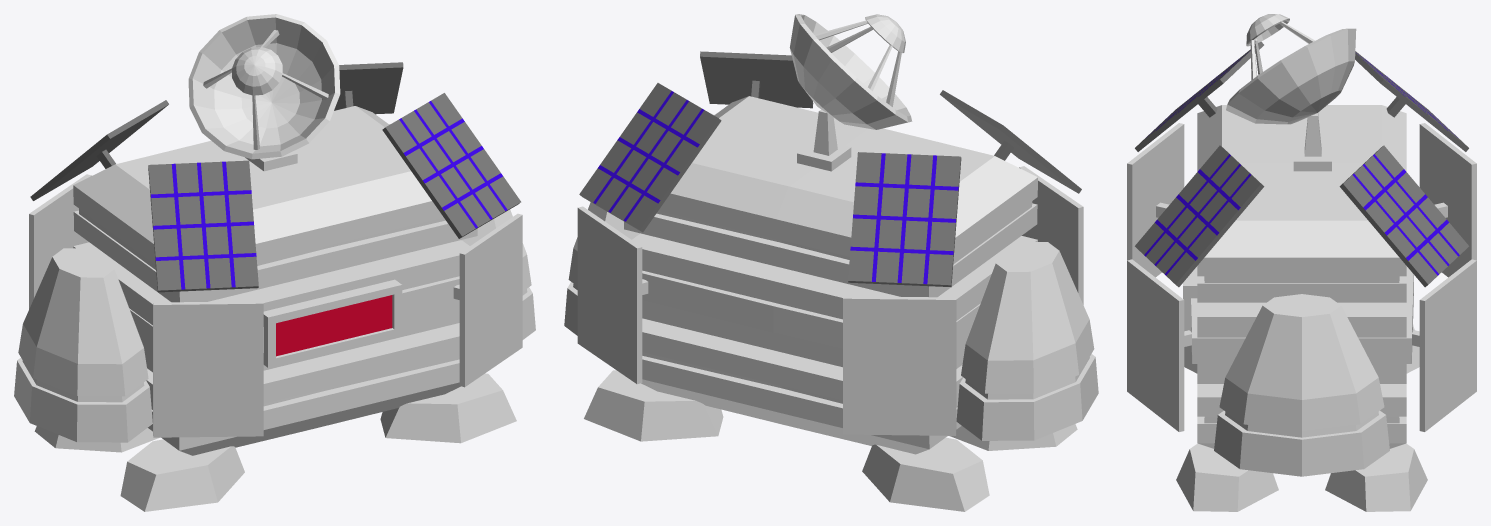
Rendered from MachinaF.fbx.
The picture shows the model from 3 angles, left to right: view 1: azimuth 30°, elevation 25°; view 2: azimuth 150°, elevation 25°; view 3: azimuth 270°, elevation 25°; orthographic projection. The views are drawn at different scales.
Parts seen in each view (by area): view 1: Cube.004; view 2: Cube.004; view 3: Cube.004.
Part boxes in pixels (left/top/right/bottom): Cube.004: left=14, top=14, right=535, bottom=511; Cube.004: left=564, top=14, right=1098, bottom=511; Cube.004: left=1127, top=14, right=1476, bottom=511.
Bounding box in the file's own units: 489 × 379 × 306.
